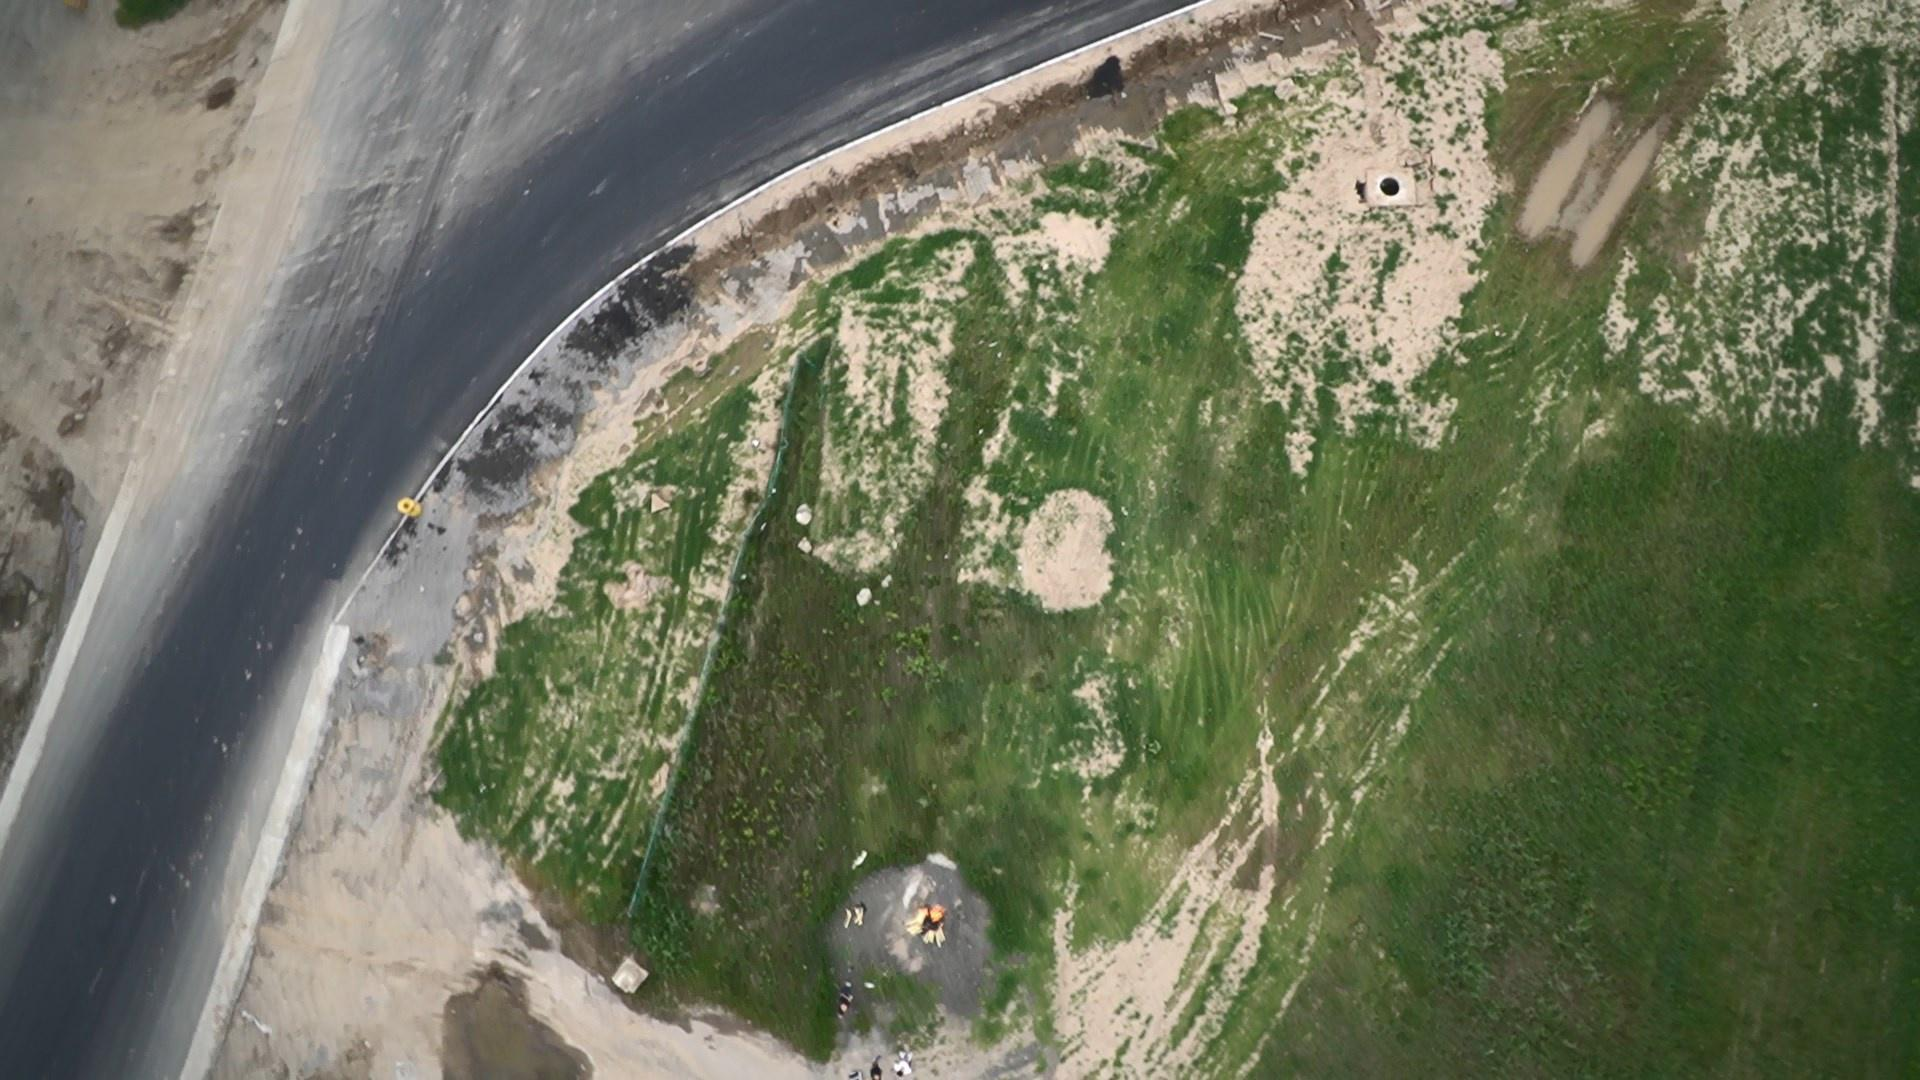fire: (910, 901, 971, 945)
